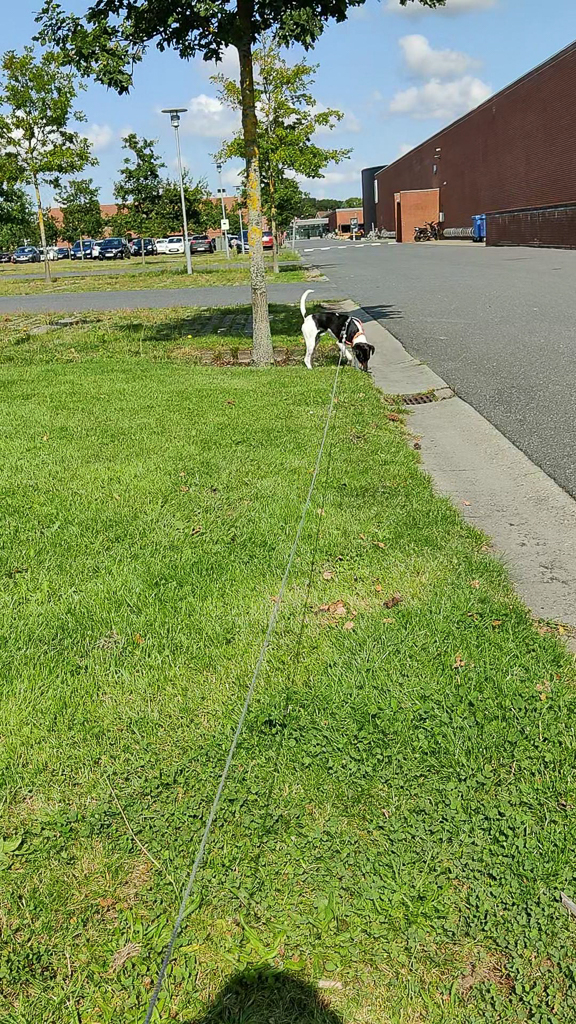Dog: (290, 283, 382, 379)
